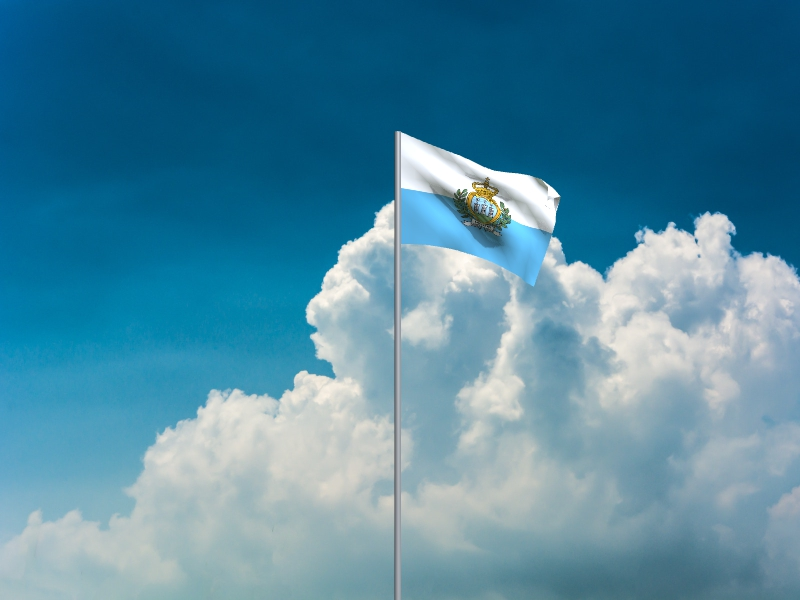sm: (402, 133, 562, 289)
